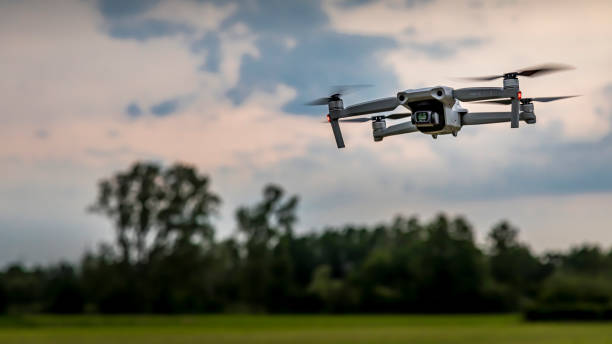Drone: (297, 62, 582, 152)
